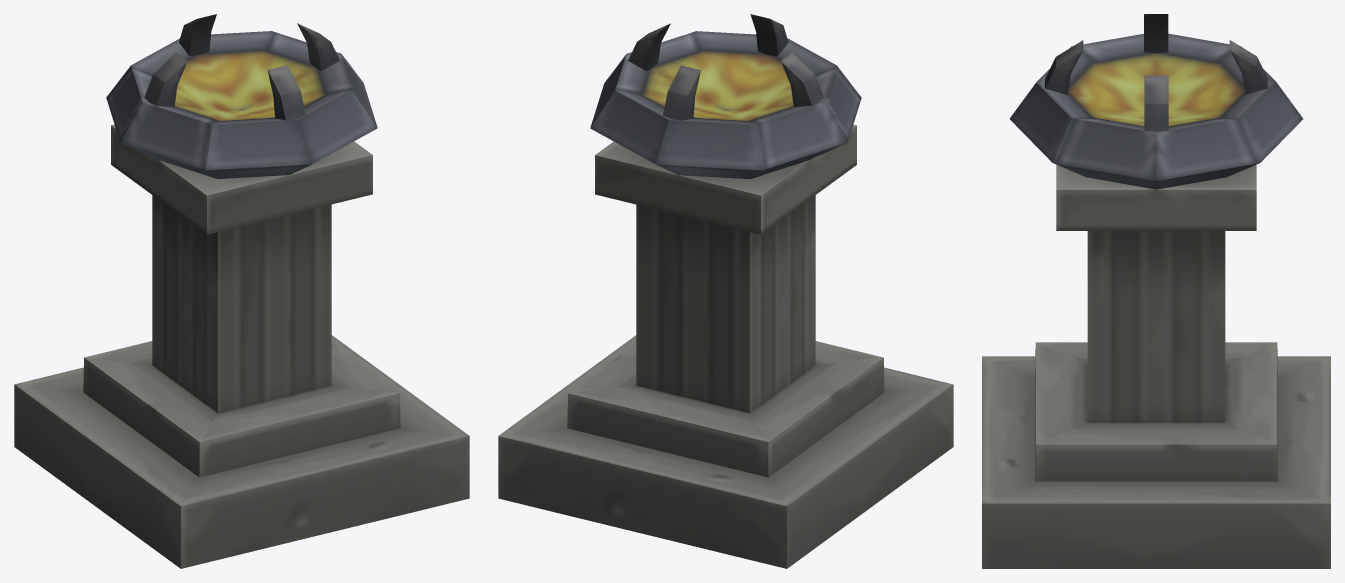
Rendered from sc_dungeon_moshenta_huopen_002.FBX.
3 renders of one model, left to right at view 1: azimuth 30°, elevation 25°; view 2: azimuth 150°, elevation 25°; view 3: azimuth 270°, elevation 25°, orthographic. The views are drawn at different scales.
Parts seen in each view (by area): view 1: sc_dungeon_moshenta_huopen_002; view 2: sc_dungeon_moshenta_huopen_002; view 3: sc_dungeon_moshenta_huopen_002.
Boxes of the visible parts, bbox=[...] form: sc_dungeon_moshenta_huopen_002: bbox=[14, 14, 469, 568]; sc_dungeon_moshenta_huopen_002: bbox=[498, 14, 953, 568]; sc_dungeon_moshenta_huopen_002: bbox=[982, 14, 1330, 568].
Size of the model in its own units: 1.31 by 1.87 by 1.31.
